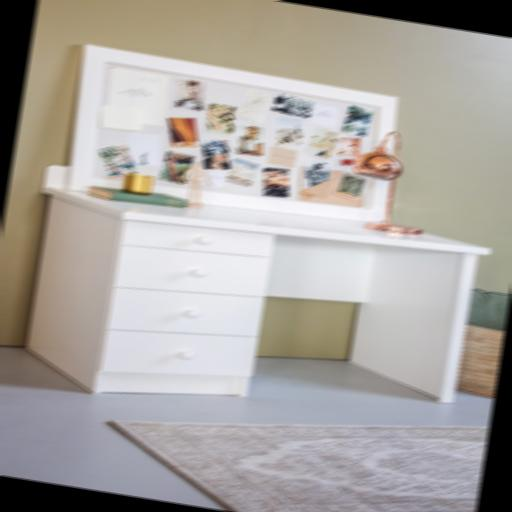desk: (11, 169, 492, 450)
wall: (0, 0, 512, 423)
